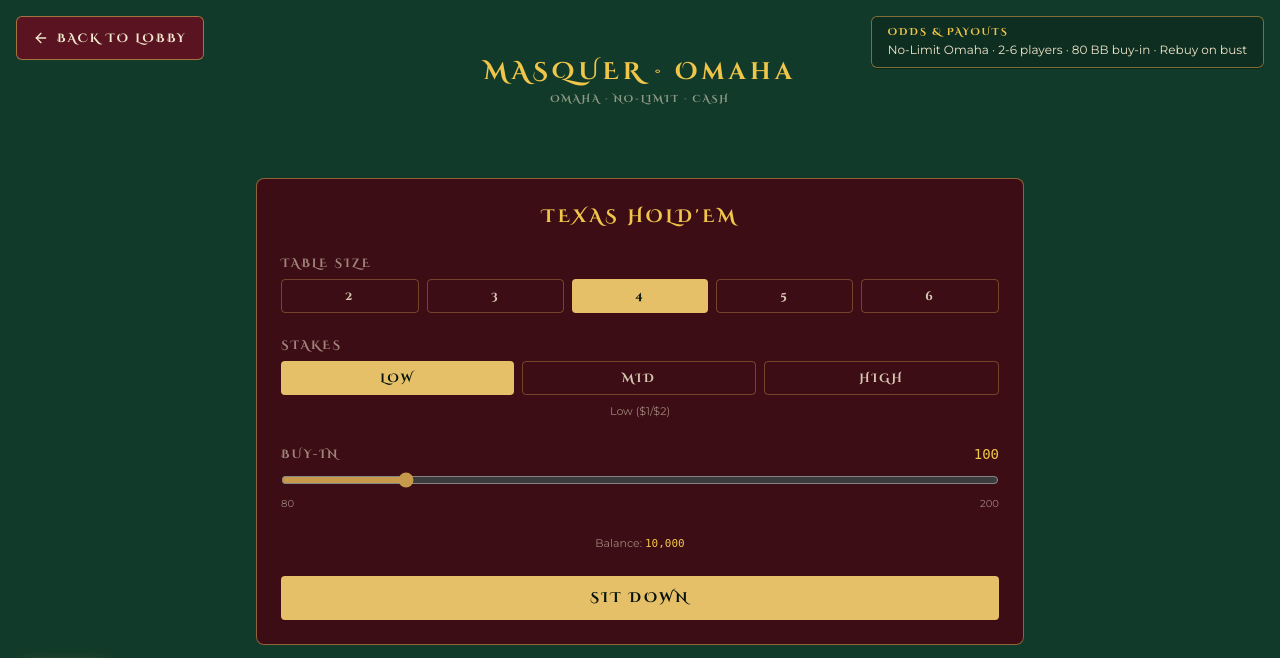
OmahaPage — gameplay › AI seats render with face-down cards during betting
The image size is (1280, 658).
Click the button "2": (350, 296) [281, 279, 419, 313]
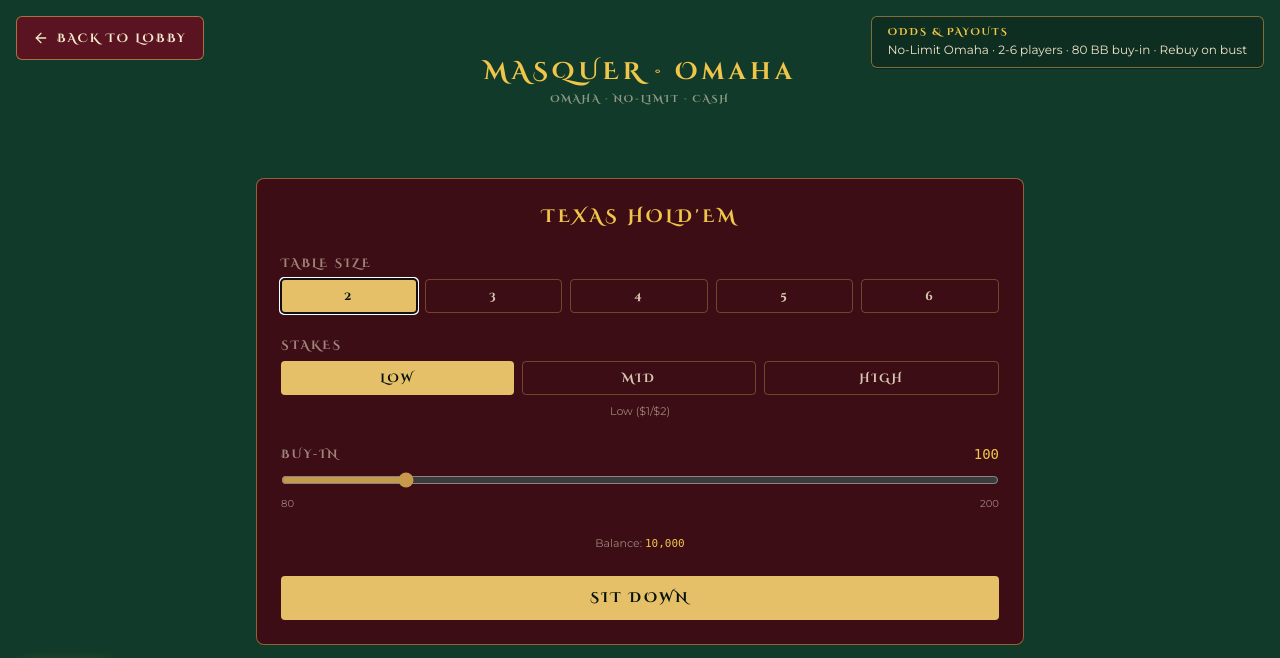
Click the button "SIT DOWN": (640, 598) [281, 576, 999, 620]
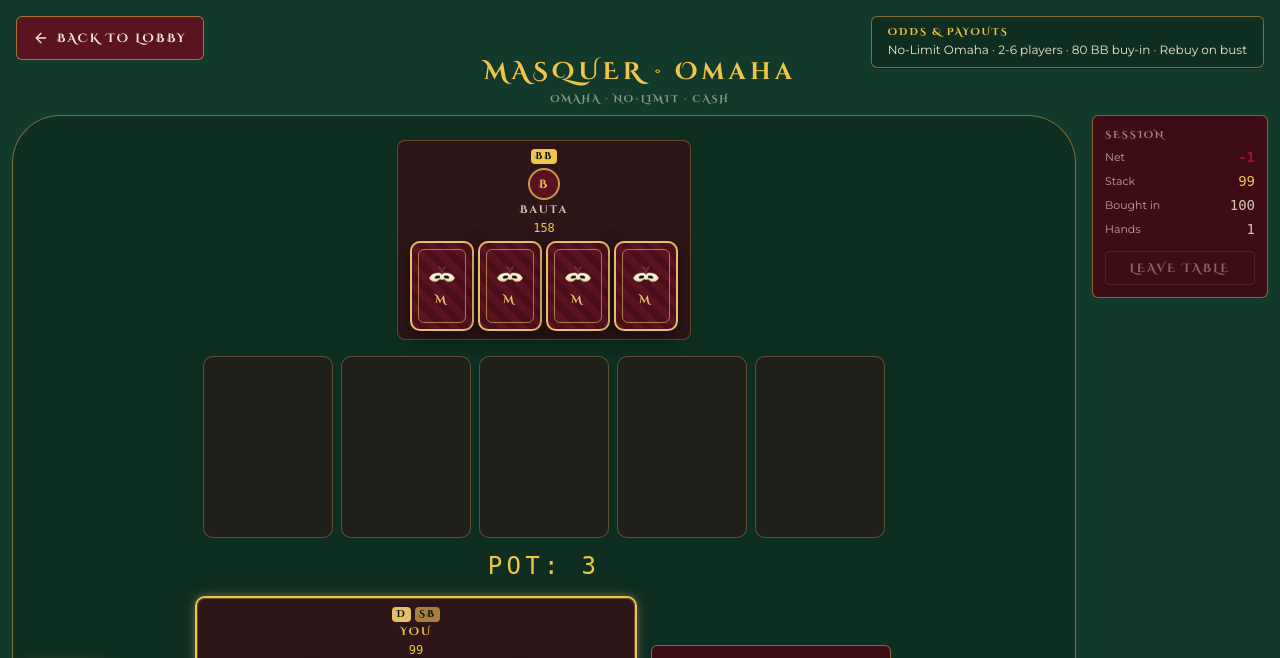
Expected: the button "LEAVE TABLE" is shown, [1105, 251, 1255, 285]
Expected: the element showing "BB B Bauta 158 M M M M" is shown, [397, 140, 691, 340]
Expected: the 1st element showing "M" is shown, [410, 241, 474, 331]
